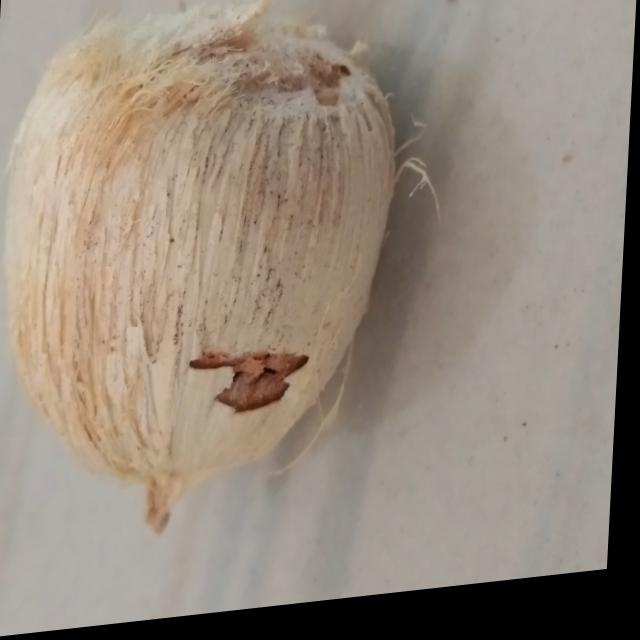phatora: (0, 0, 400, 550)
